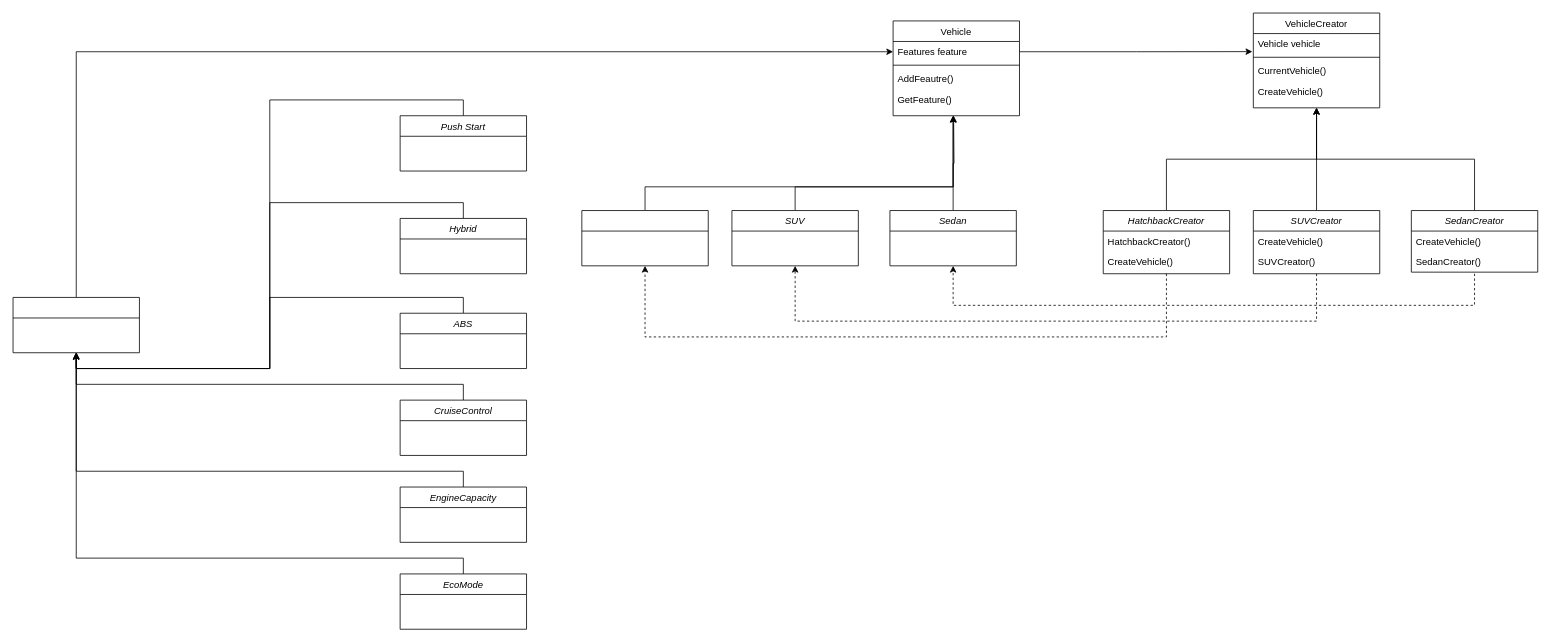
The diagram is 1551 pixels wide and 642 high, and some of its shapes have lost their labels. The shapes that lost their labels are listed below. From the top down, each one's centre as x and y in pixels, then its label:
At [644,238]: "Hatchback".
At [75,325]: "Feature".
